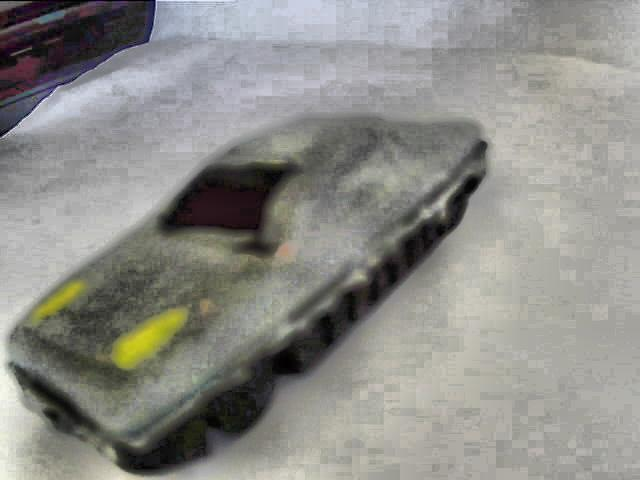normal_car: (5, 114, 486, 475)
